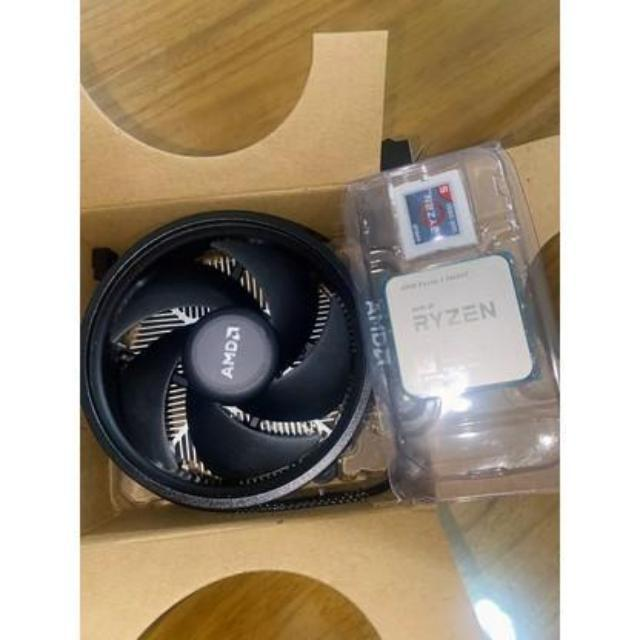CPU: (388, 255, 530, 396)
CPU_Fan: (80, 223, 372, 494)
